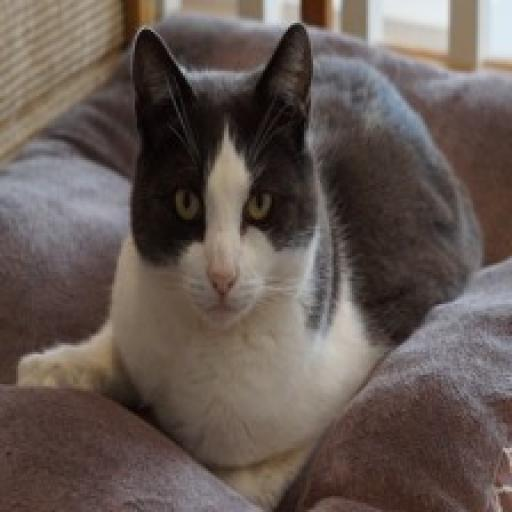cat: (10, 11, 488, 509)
